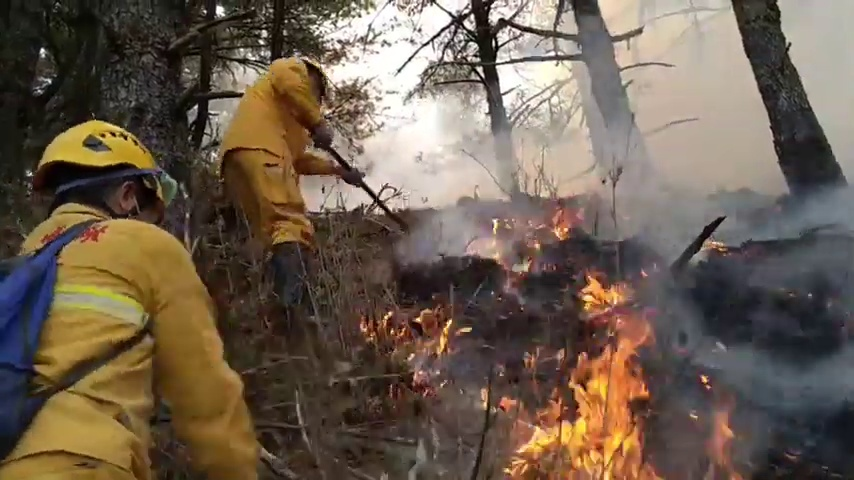fire: (521, 344, 650, 477), (579, 278, 615, 312), (436, 319, 450, 355), (552, 224, 568, 241)
